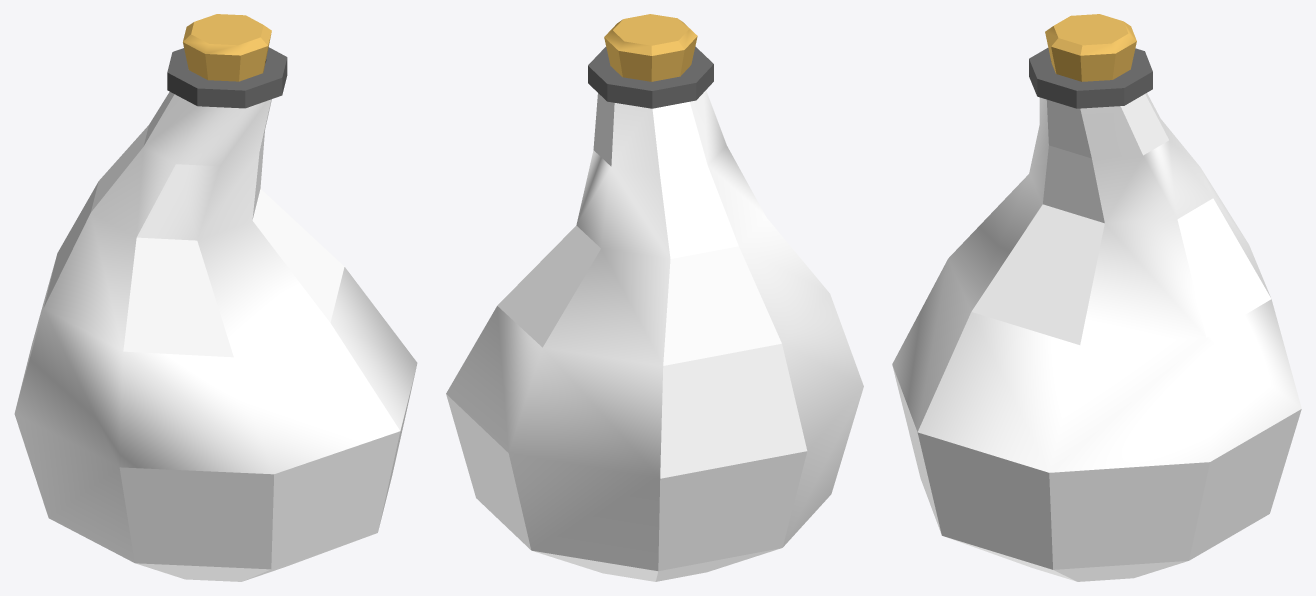
Rendered from WitchPotion.004.glb.
The picture shows the model from 3 angles, left to right: view 1: azimuth 30°, elevation 25°; view 2: azimuth 150°, elevation 25°; view 3: azimuth 270°, elevation 25°; orthographic projection.
Parts seen in each view (by area): view 1: WitchPotion.004; view 2: WitchPotion.004; view 3: WitchPotion.004.
Part boxes in pixels (bbox=[...]): WitchPotion.004: bbox=[14, 14, 417, 581]; WitchPotion.004: bbox=[446, 14, 863, 581]; WitchPotion.004: bbox=[892, 14, 1301, 581].
Size of what is drawn, in the model's own units: 0.1678 by 0.2363 by 0.1674.
Materials: 3 (3 with a texture image).
